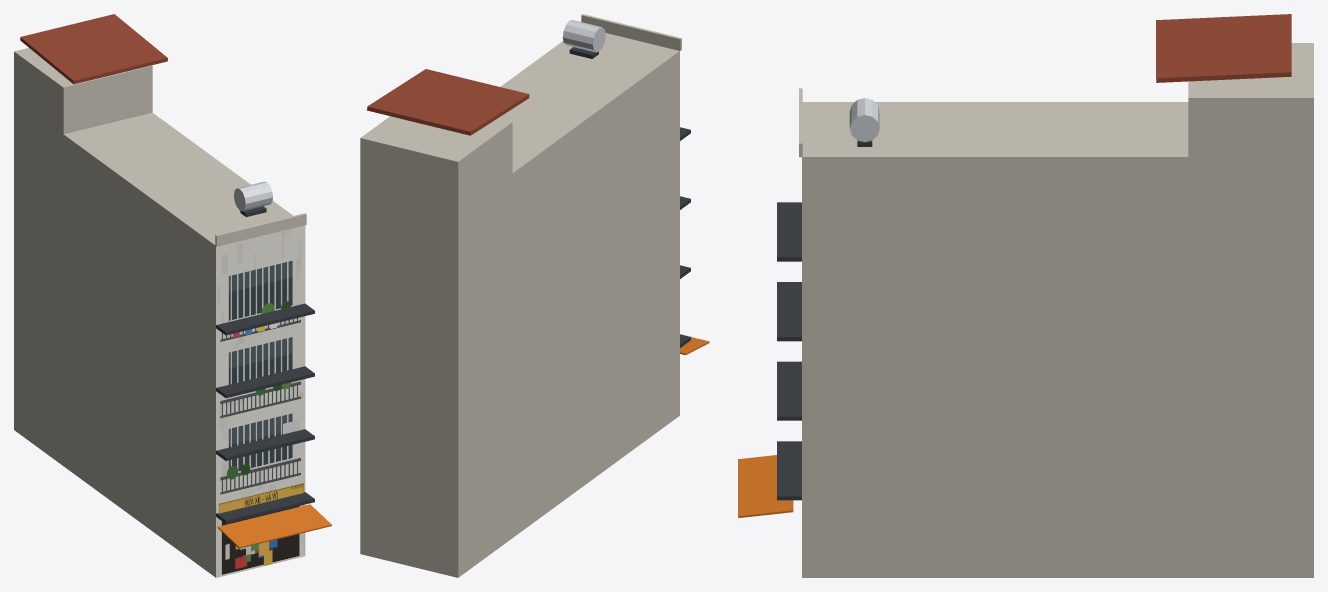
The model's file is tube_house_b.glb.
The picture shows the model from 3 angles, left to right: view 1: azimuth 30°, elevation 25°; view 2: azimuth 150°, elevation 25°; view 3: azimuth 270°, elevation 25°; orthographic projection. The views are drawn at different scales.
Parts seen in each view (by area): view 1: tubehouse; view 2: tubehouse; view 3: tubehouse.
Part boxes in pixels (x1,y1,x2,y2): tubehouse: (14,14,331,577); tubehouse: (360,14,709,577); tubehouse: (738,14,1313,577).
Size of the model in its own units: 5.49 by 22.3 by 22.94.
Materials: 7 (2 with a texture image).
